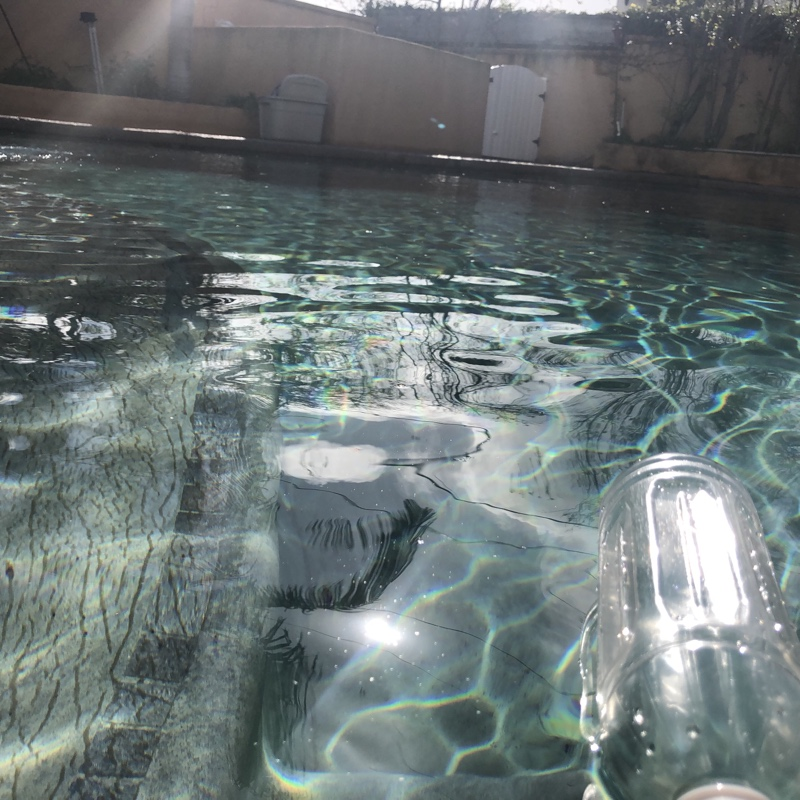Plastic Bottle: (580, 447, 800, 800)
